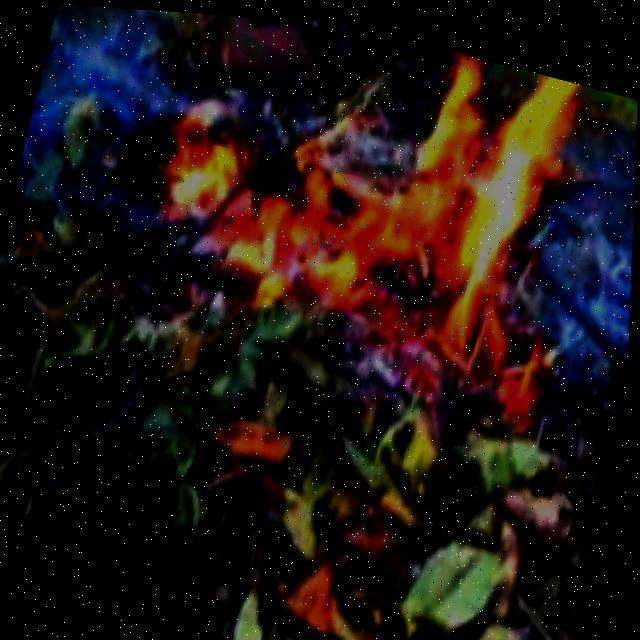Fire: (337, 30, 619, 401), (135, 94, 488, 325)
